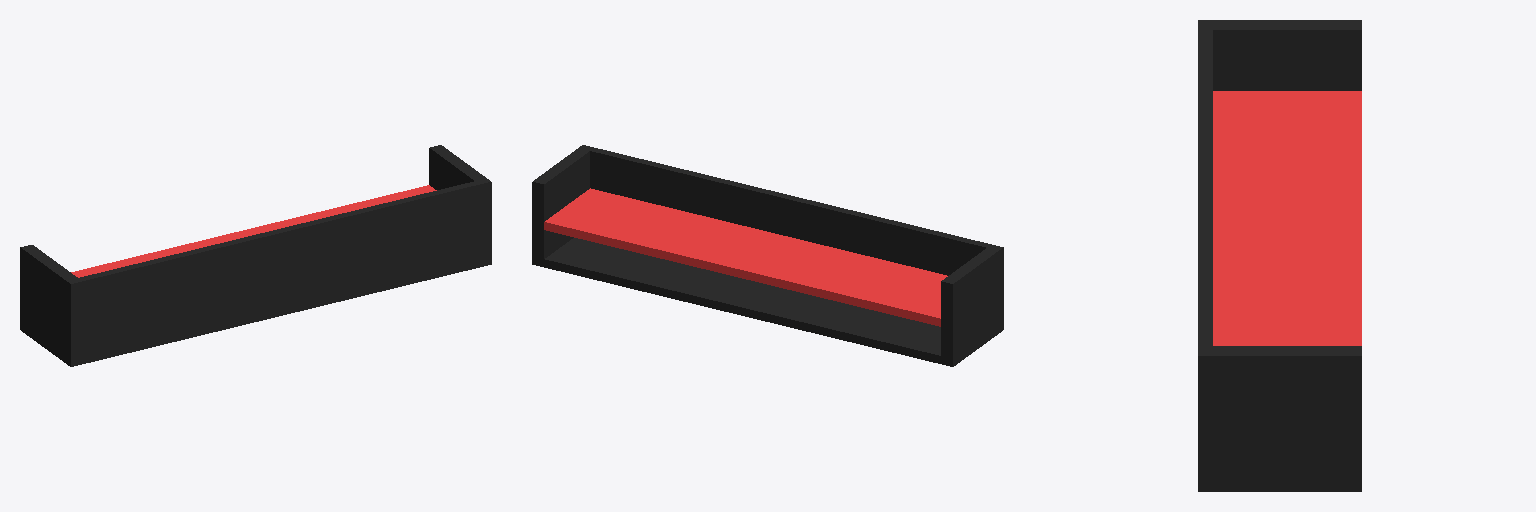
The robot description file, URDF, robot "shelf":
<?xml version="1.0"?>
<robot name="shelf">
    <material name="gray">
        <color rgba="0.2 0.2 0.2 1.0"/>
    </material>

    <link name="base">
        <inertial>
            <origin xyz="0.0 0.0 0.0" rpy="0.0 0.0 0.0"/>
            <mass value="40"/>
            <inertia ixx="0.0" ixy="0.0" ixz="0.0" iyy="0.0" iyz="0.0" izz="0.0"/>
        </inertial>

        <visual>
            <origin xyz="0.0 0.0 0.0" rpy="0.0 0.0 0.0"/>
            <geometry>
                <box size="5 1 0.1"/>
            </geometry>
            <material name="gray"/>
        </visual>

        <collision>
            <origin xyz="0.0 0.0 0.0" rpy="0.0 0.0 0.0"/>
            <geometry>
                <box size="5 1 0.1"/>
            </geometry>
        </collision>
    </link>

    <link name="left_side">
        <inertial>
            <origin xyz="0.0 0.0 0.0" rpy="0.0 0.0 0.0"/>
            <mass value="20"/>
            <inertia ixx="0.0" ixy="0.0" ixz="0.0" iyy="0.0" iyz="0.0" izz="0.0"/>
        </inertial>

        <visual>
            <origin xyz="0.0 0.0 0.0" rpy="0.0 0.0 0.0"/>
            <geometry>
                <box size="0.15 1 1"/>
            </geometry>
            <material name="gray"/>
        </visual>
        
        <collision>
            <origin xyz="0.0 0.0 0.0" rpy="0.0 0.0 0.0"/>
            <geometry>
                <box size="0.15 1 1"/>
            </geometry>
        </collision>
    </link>
    <joint name="left_side_joint" type="fixed">
        <origin xyz="-2.575 0.0 0.45" rpy="0.0 0.0 0.0"/>
        <parent link="base"/>
        <child link="left_side"/>
    </joint>

    <link name="right_side">
        <inertial>
            <origin xyz="0.0 0.0 0.0" rpy="0.0 0.0 0.0"/>
            <mass value="20"/>
            <inertia ixx="0.0" ixy="0.0" ixz="0.0" iyy="0.0" iyz="0.0" izz="0.0"/>
        </inertial>

        <visual>
            <origin xyz="0.0 0.0 0.0" rpy="0.0 0.0 0.0"/>
            <geometry>
                <box size="0.15 1 1"/>
            </geometry>
            <material name="gray"/>
        </visual>
        
        <collision>
            <origin xyz="0.0 0.0 0.0" rpy="0.0 0.0 0.0"/>
            <geometry>
                <box size="0.15 1 1"/>
            </geometry>
        </collision>
    </link>
    <joint name="right_side_joint" type="fixed">
        <origin xyz="2.575 0.0 0.45" rpy="0.0 0.0 0.0"/>
        <parent link="base"/>
        <child link="right_side"/>
    </joint>

    <link name="shelf">
        <inertial>
            <origin xyz="0.0 0.0 0.0" rpy="0.0 0.0 0.0"/>
            <mass value="40"/>
            <inertia ixx="0.0" ixy="0.0" ixz="0.0" iyy="0.0" iyz="0.0" izz="0.0"/>
        </inertial>

        <visual>
            <origin xyz="0.0 0.0 0.0" rpy="0.0 0.0 0.0"/>
            <geometry>
                <box size="5 1 0.1"/>
            </geometry>
            <material name="blue">
                <color rgba="1.0 0.3 0.3 1.0"/>
            </material>
        </visual>

        <collision>
            <origin xyz="0.0 0.0 0.0" rpy="0.0 0.0 0.0"/>
            <geometry>
                <box size="5 1 0.1"/>
            </geometry>
        </collision>
    </link>
    <joint name="shelf_joint" type="fixed">
        <origin xyz="2.575 0.0 0.0" rpy="0.0 0.0 0.0"/>
        <parent link="left_side"/>
        <child link="shelf"/>
    </joint>

    <link name="back">
        <inertial>
            <origin xyz="0.0 0.0 0.0" rpy="0.0 0.0 0.0"/>
            <mass value="40"/>
            <inertia ixx="0.0" ixy="0.0" ixz="0.0" iyy="0.0" iyz="0.0" izz="0.0"/>
        </inertial>

        <visual>
            <origin xyz="0.0 0.0 0.0" rpy="0.0 0.0 0.0"/>
            <geometry>
                <box size="5.3 0.1 1"/>
            </geometry>
            <material name="gray"/>
        </visual>

        <collision>
            <origin xyz="0.0 0.0 0.0" rpy="0.0 0.0 0.0"/>
            <geometry>
                <box size="5.3 0.1 1"/>
            </geometry>
        </collision>
    </link>
    <joint name="back_joint" type="fixed">
        <origin xyz="0.0 -0.55 0.0" rpy="0.0 0.0 0.0"/>
        <parent link="shelf"/>
        <child link="back"/>
    </joint>
</robot>

--- Facts derived from the render (not from the file) ---
The picture shows the robot from 3 angles, left to right: view 1: azimuth 30°, elevation 25°; view 2: azimuth 150°, elevation 25°; view 3: azimuth 270°, elevation 25°; orthographic projection.
Robot: shelf — 5 links, 4 joints (4 fixed); root link base; default pose: all joints at 0.
Links seen in each view (by area): view 1: back, left_side, shelf, right_side; view 2: shelf, back, base, left_side, right_side; view 3: shelf, right_side, left_side, back.
Link boxes in pixels (left/top/right/bottom): back: left=66, top=178, right=491, bottom=366; left_side: left=20, top=245, right=77, bottom=362; shelf: left=71, top=185, right=436, bottom=277; right_side: left=429, top=145, right=485, bottom=189; shelf: left=544, top=188, right=947, bottom=326; back: left=579, top=145, right=1003, bottom=332; base: left=544, top=238, right=940, bottom=363; left_side: left=941, top=248, right=998, bottom=366; right_side: left=532, top=148, right=589, bottom=266; shelf: left=1213, top=91, right=1361, bottom=345; right_side: left=1213, top=346, right=1361, bottom=491; left_side: left=1213, top=20, right=1361, bottom=90; back: left=1198, top=20, right=1212, bottom=491.
Bounding box of the posed robot: 5.3 × 1.1 × 1 m (x, y, z).
Geometry: primitives only (box / cylinder / sphere), no mesh files.
